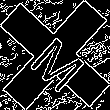M_NE: (21, 21, 89, 89)
